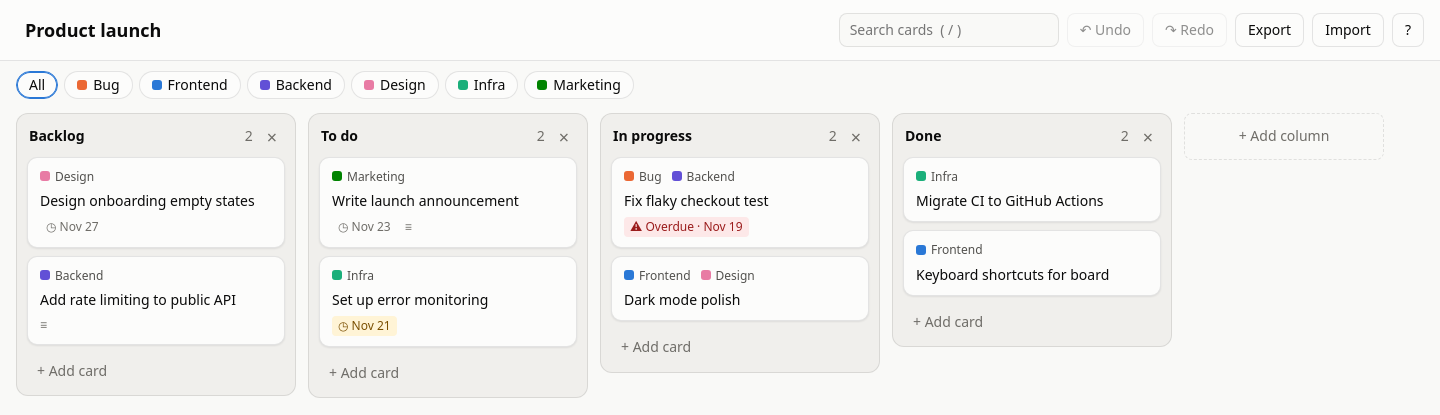
it: <App /> › filters cards by search text
Step 1. Type "rate limiting" into the search field labelled "Search cards" → (949,30), box [839,13,1059,47]
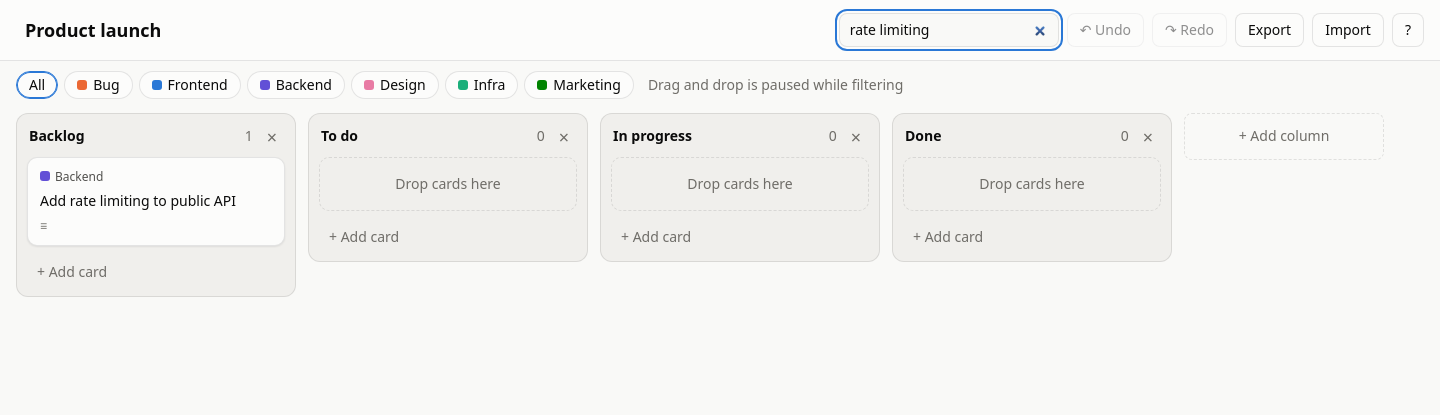
Check: the text "Add rate limiting to public API" is shown, box [40,191,236,210]
Check: the button "Dark mode polish" is gone
Check: the text "Drag and drop is paused while filtering" is shown, box [648,75,903,95]
